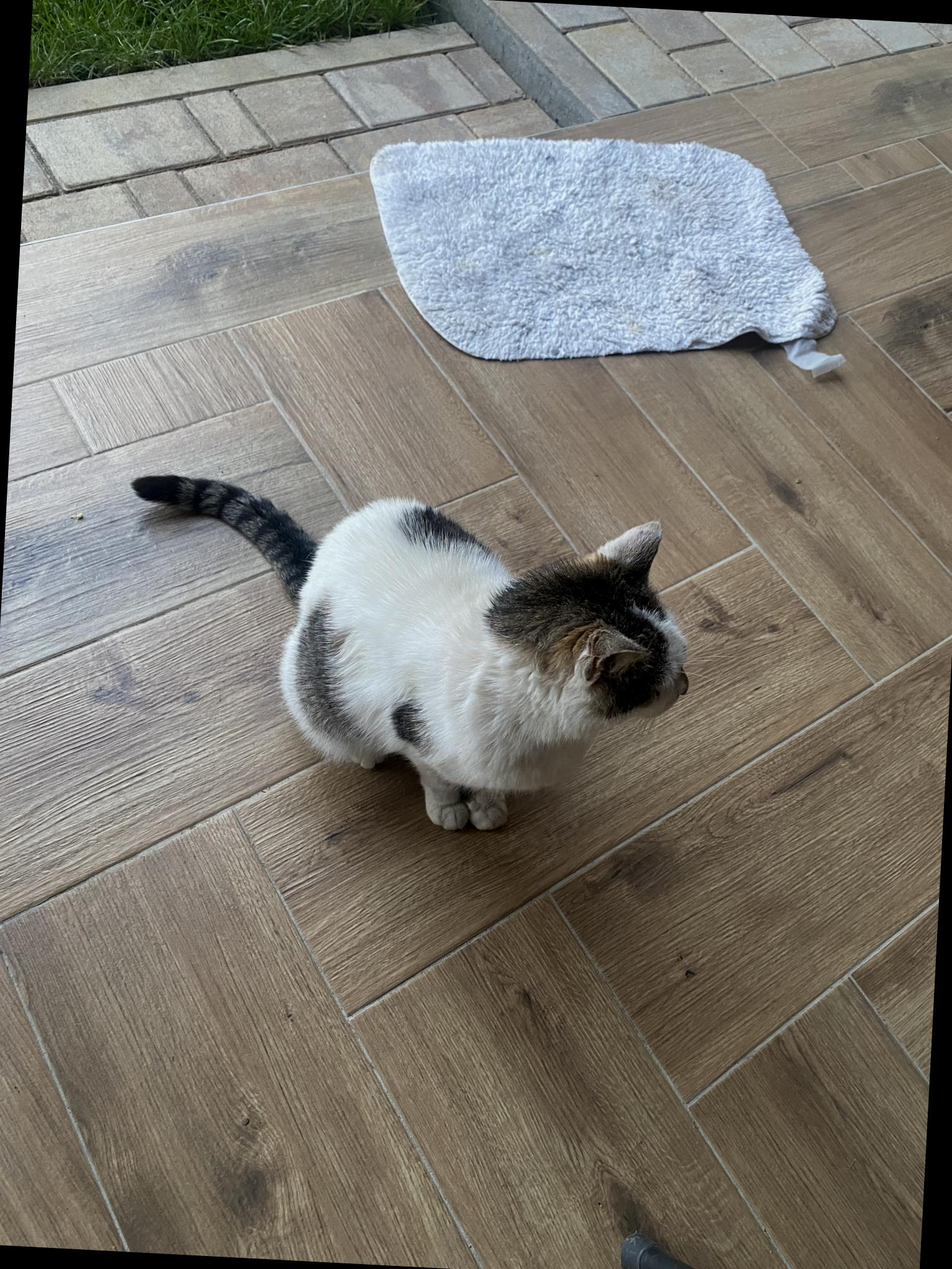macka: (112, 473, 697, 847)
